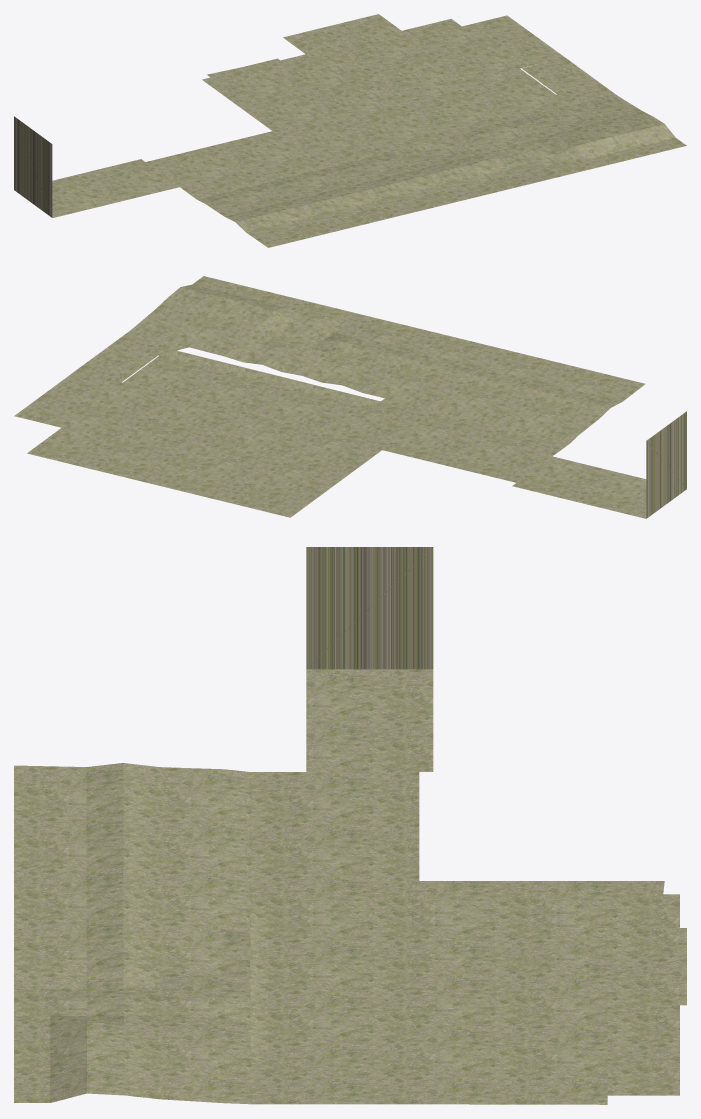
File: SM_Chateaux_06_00.fbx
The picture shows the model from 3 angles, top to bottom: view 1: azimuth 30°, elevation 25°; view 2: azimuth 150°, elevation 25°; view 3: azimuth 270°, elevation 25°; orthographic projection. The views are drawn at different scales.
Parts seen in each view (by area): view 1: SM_Chateaux_06_00; view 2: SM_Chateaux_06_00; view 3: SM_Chateaux_06_00.
Boxes of the visible parts, x1,y1,x2,y2 form: SM_Chateaux_06_00: (14,14,686,247); SM_Chateaux_06_00: (14,276,686,518); SM_Chateaux_06_00: (14,547,686,1104).
Bounding box in the file's own units: 8006 × 1152 × 5173.
